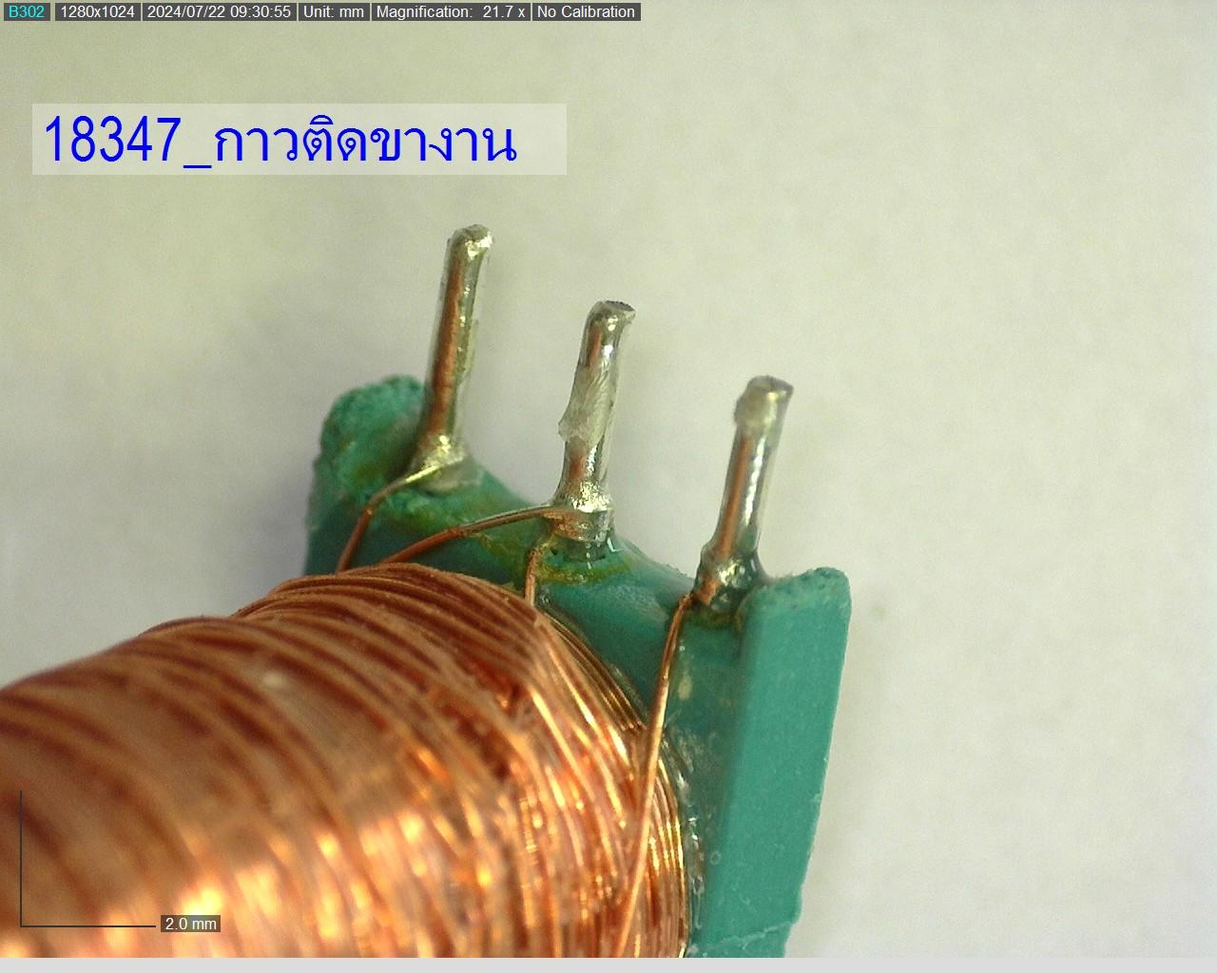glue: (712, 345, 787, 632), (426, 212, 495, 497), (568, 279, 624, 551)
